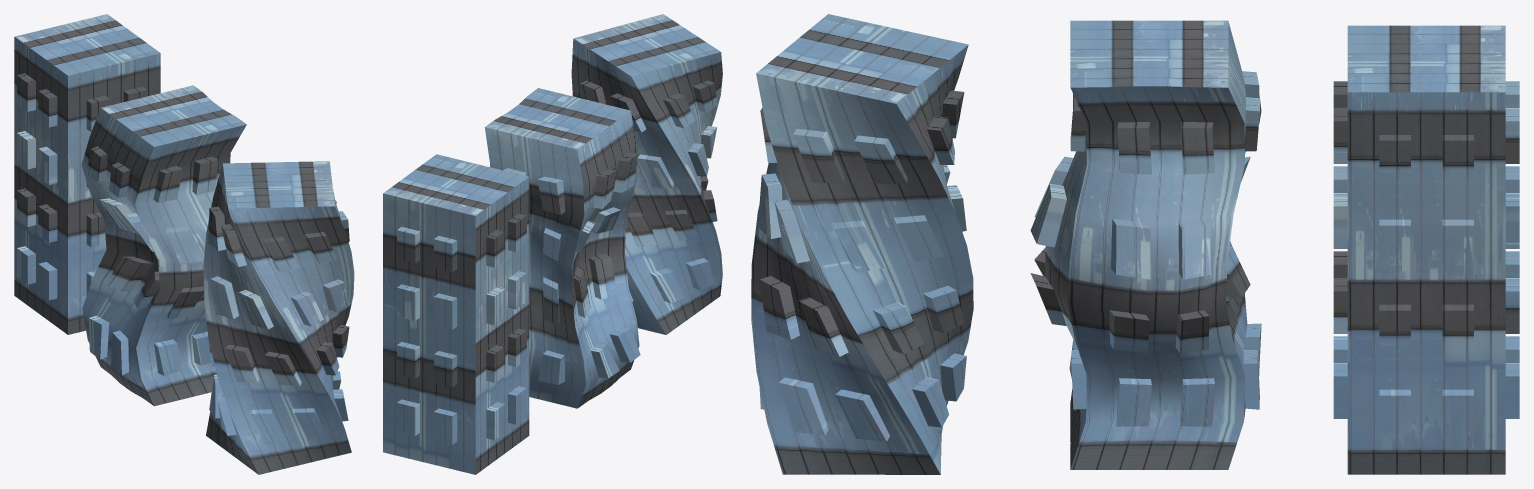
File: mirror_buildings.fbx
3 renders of one model, left to right at view 1: azimuth 30°, elevation 25°; view 2: azimuth 150°, elevation 25°; view 3: azimuth 270°, elevation 25°, orthographic. The views are drawn at different scales.
Parts seen in each view (by area): view 1: pCube3, pCube2, pCube1; view 2: pCube1, pCube2, pCube3; view 3: pCube3, pCube2, pCube1.
Boxes of the visible parts, x1,y1,x2,y2 form: pCube3: [203, 161, 354, 474]; pCube2: [81, 85, 246, 406]; pCube1: [14, 14, 160, 334]; pCube1: [383, 154, 529, 474]; pCube2: [484, 88, 640, 408]; pCube3: [571, 14, 722, 334]; pCube3: [751, 14, 973, 474]; pCube2: [1030, 20, 1261, 469]; pCube1: [1333, 25, 1519, 474].
Size of the model in its own units: 17.99 by 29.99 by 54.48.
Materials: 1 (1 with a texture image).
